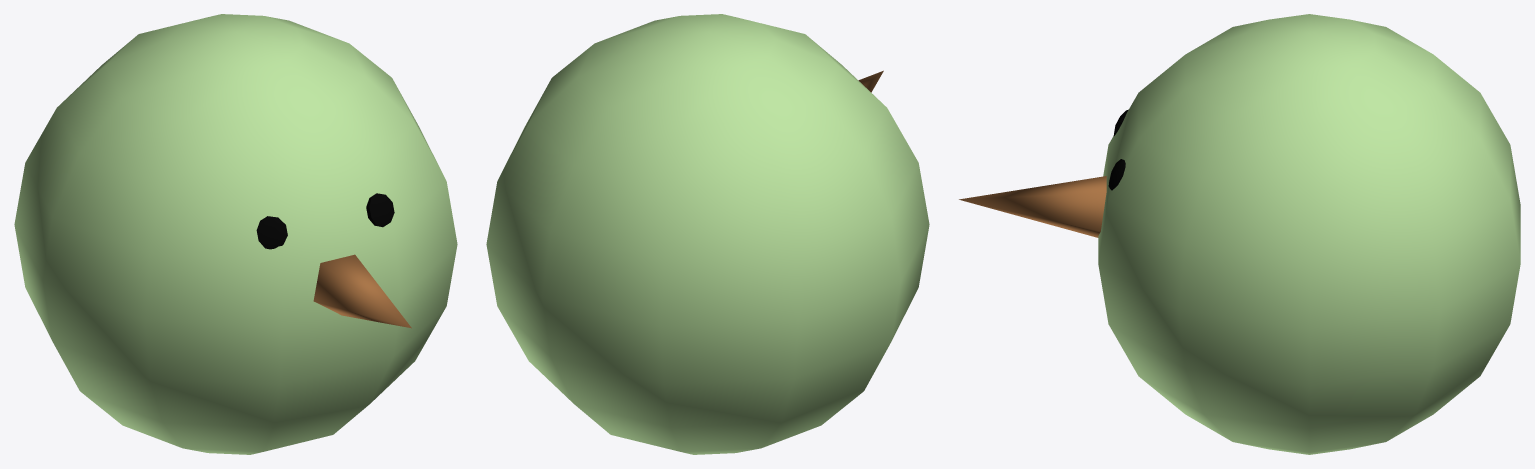
Rendered from GooHeadBoi.fbx.
3 renders of one model, left to right at view 1: azimuth 30°, elevation 25°; view 2: azimuth 150°, elevation 25°; view 3: azimuth 270°, elevation 25°, orthographic.
Parts seen in each view (by area): view 1: pSphere1, pCone1, pSphere2, pSphere3; view 2: pSphere1; view 3: pSphere1, pCone1.
Boxes of the visible parts, x1,y1,x2,y2 form: pSphere1: [14, 14, 457, 454]; pCone1: [313, 254, 411, 328]; pSphere2: [256, 216, 287, 249]; pSphere3: [366, 193, 394, 227]; pSphere1: [486, 14, 929, 454]; pSphere1: [1098, 14, 1520, 454]; pCone1: [959, 176, 1106, 237].
Bounding box in the file's own units: 0.5 × 0.5 × 0.633.
